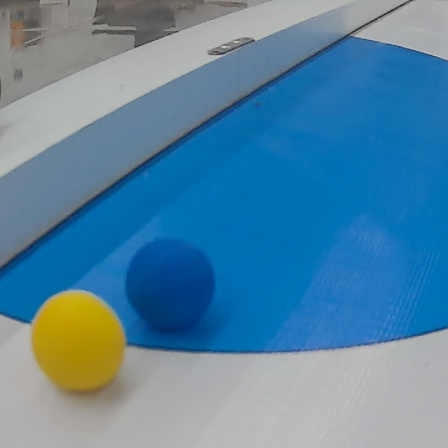blue: (123, 239, 219, 337)
blue_base: (2, 34, 448, 356)
yellow: (31, 285, 125, 397)
